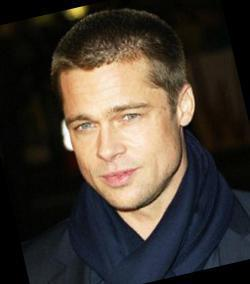Sober: (63, 67, 175, 202)
